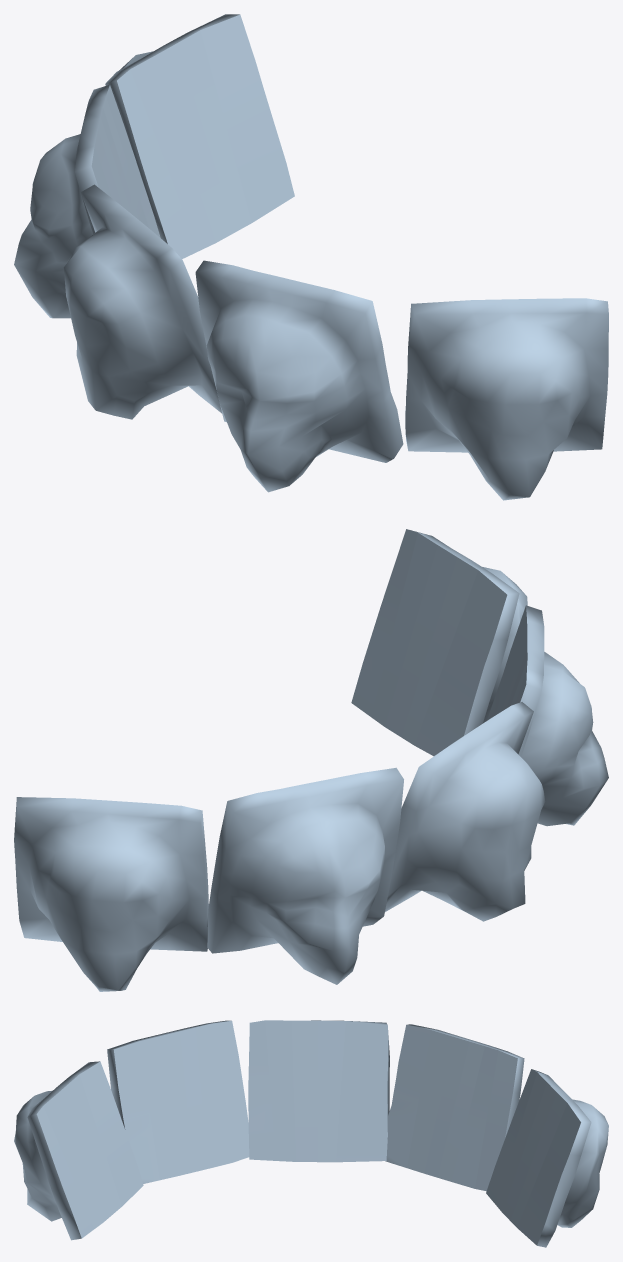
File: Statues_Grp_07B_Lod0.fbx
3 views of the same model, one above another, from view 1: azimuth 30°, elevation 25°; view 2: azimuth 150°, elevation 25°; view 3: azimuth 270°, elevation 25° (orthographic). The views are drawn at different scales.
Parts seen in each view (by area): view 1: Statues_Grp_07B_Lod0; view 2: Statues_Grp_07B_Lod0; view 3: Statues_Grp_07B_Lod0.
Part boxes in pixels (left/top/right/bottom): Statues_Grp_07B_Lod0: left=14, top=14, right=608, bottom=500; Statues_Grp_07B_Lod0: left=14, top=529, right=608, bottom=991; Statues_Grp_07B_Lod0: left=14, top=1020, right=608, bottom=1247.
Bounding box in the file's own units: 122 × 61.41 × 238.
